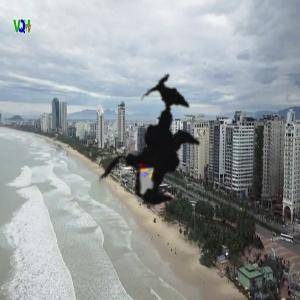drone: (52, 44, 248, 240)
